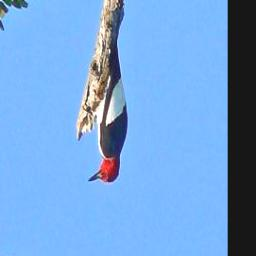Woodpecker: (82, 8, 138, 196)
